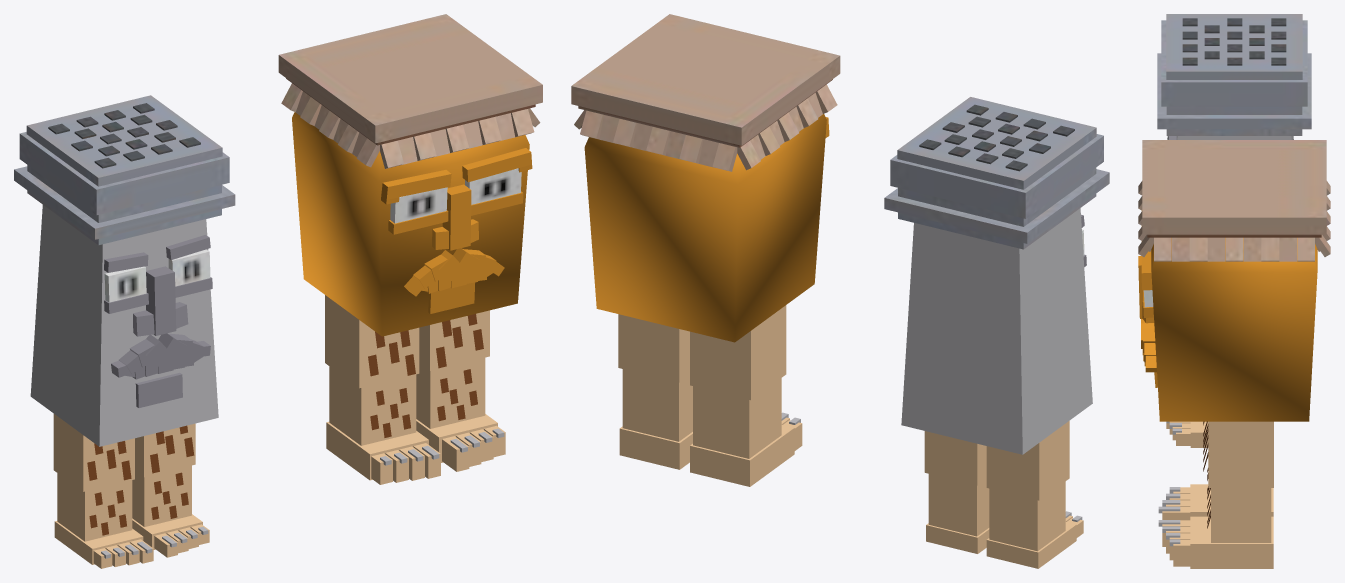
File: garama.glb
3 renders of one model, left to right at view 1: azimuth 30°, elevation 25°; view 2: azimuth 150°, elevation 25°; view 3: azimuth 270°, elevation 25°, orthographic. The views are drawn at different scales.
Parts seen in each view (by area): view 1: fdff.332_59, fdff.418_69, fdff.811_105, fdff.153_25, fdff.148_22, fdff.152_24, fdff.830_108, fdff.823_107, fdff.151_23, fdff.085_9, fdff.166_27, fdff.775_102 (+16 smaller); view 2: fdff.332_59, fdff.418_69, fdff.811_105, fdff.153_25, fdff.152_24, fdff.830_108, fdff.823_107, fdff.151_23, fdff.148_22, fdff.166_27, fdff.813_106, fdff.085_9 (+2 smaller); view 3: fdff.332_59, fdff.418_69, fdff.095_11, fdff.085_9, fdff.152_24, fdff.148_22, fdff.154_26, fdff.977_140, fdff.985_141, fdff.968_139.
Boxes of the visible parts, bbox=[...] form: fdff.332_59: bbox=[278, 14, 542, 336]; fdff.418_69: bbox=[14, 95, 235, 446]; fdff.811_105: bbox=[325, 295, 419, 388]; fdff.153_25: bbox=[329, 366, 416, 445]; fdff.148_22: bbox=[326, 421, 440, 484]; fdff.152_24: bbox=[416, 357, 485, 428]; fdff.830_108: bbox=[53, 414, 134, 491]; fdff.823_107: bbox=[57, 473, 132, 541]; fdff.151_23: bbox=[419, 310, 489, 370]; fdff.085_9: bbox=[416, 414, 505, 471]; fdff.166_27: bbox=[132, 465, 191, 526]; fdff.775_102: bbox=[111, 333, 210, 379]; fdff.332_59: bbox=[571, 14, 840, 342]; fdff.418_69: bbox=[884, 97, 1109, 454]; fdff.811_105: bbox=[690, 305, 786, 400]; fdff.153_25: bbox=[693, 378, 781, 458]; fdff.152_24: bbox=[622, 369, 692, 441]; fdff.830_108: bbox=[986, 421, 1069, 500]; fdff.823_107: bbox=[989, 481, 1065, 551]; fdff.151_23: bbox=[618, 314, 689, 382]; fdff.148_22: bbox=[690, 412, 802, 486]; fdff.166_27: bbox=[928, 474, 989, 536]; fdff.813_106: bbox=[924, 431, 986, 485]; fdff.085_9: bbox=[619, 426, 692, 469]; fdff.332_59: bbox=[1138, 140, 1330, 421]; fdff.418_69: bbox=[1157, 14, 1311, 139]; fdff.095_11: bbox=[1208, 421, 1273, 487]; fdff.085_9: bbox=[1158, 516, 1273, 568]; fdff.152_24: bbox=[1207, 486, 1271, 542]; fdff.148_22: bbox=[1158, 484, 1273, 520]; fdff.154_26: bbox=[1166, 421, 1208, 447]; fdff.977_140: bbox=[1141, 319, 1156, 372]; fdff.985_141: bbox=[1141, 250, 1152, 290]; fdff.968_139: bbox=[1138, 265, 1154, 323].
Size of the model in its own units: 7.75 by 6.68 by 3.05.
6 materials, 1 textured.
